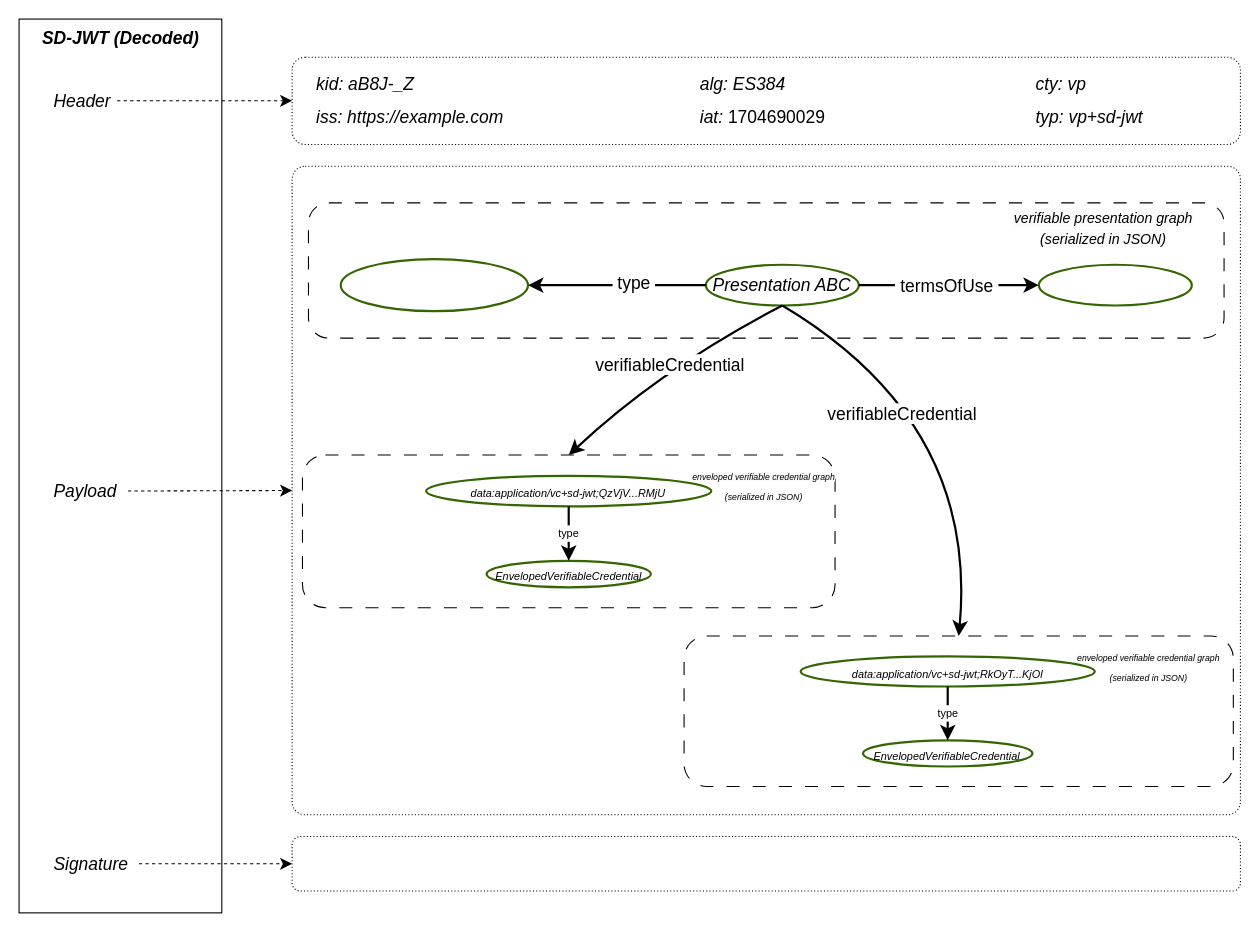
Image size: 1260x943. Some labels were removed from this diagram. Each missing label, with the centre of its shape:
cYjaSdfIoJH45NIqw3MYnasGIba...: point 765,863
DoNotArchive: point 1114,284
VerifiablePresentation: point 434,285
